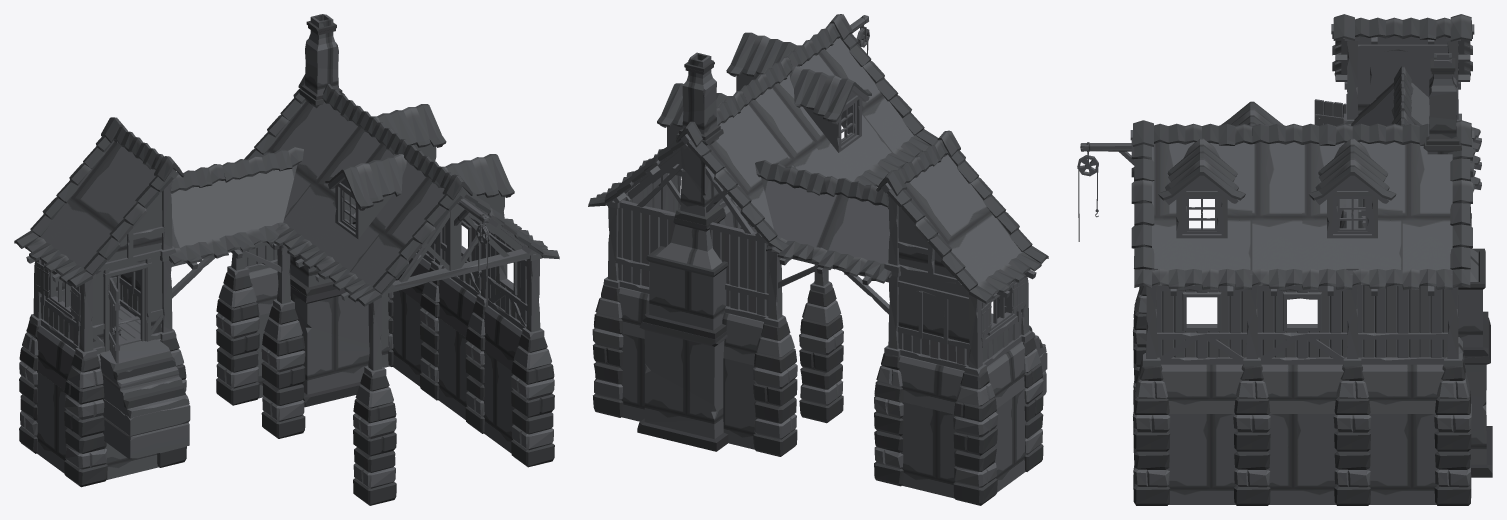
File: kn_bld_forge.gltf
3 views of the same model, side by side, from view 1: azimuth 30°, elevation 25°; view 2: azimuth 150°, elevation 25°; view 3: azimuth 270°, elevation 25° (orthographic). The views are drawn at different scales.
Parts seen in each view (by area): view 1: kn_bld_forge; view 2: kn_bld_forge; view 3: kn_bld_forge.
Boxes of the visible parts, x1=… form: kn_bld_forge: x1=14, y1=14, x2=559, y2=505; kn_bld_forge: x1=588, y1=14, x2=1048, y2=505; kn_bld_forge: x1=1077, y1=14, x2=1492, y2=505.
Size of the model in its own units: 12.7 by 10.98 by 10.34.
1 material, 1 textured.
